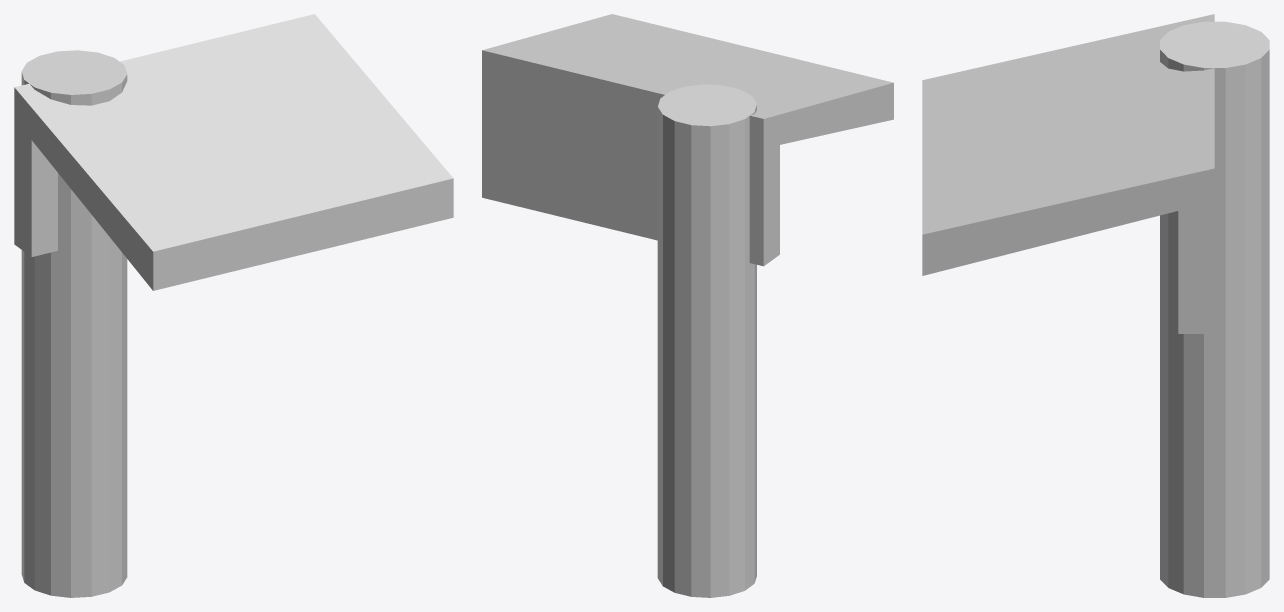
File: dc_metrobus_roof_4f.obj
The picture shows the model from 3 angles, left to right: view 1: azimuth 30°, elevation 25°; view 2: azimuth 150°, elevation 25°; view 3: azimuth 270°, elevation 25°; orthographic projection. The views are drawn at different scales.
Parts seen in each view (by area): view 1: part4f; view 2: part4f; view 3: part4f.
Boxes of the visible parts, <box> form: part4f: <box>14,14,453,597</box>; part4f: <box>482,14,893,597</box>; part4f: <box>922,14,1269,597</box>.
Size of the model in its own units: 0.625 by 1 by 0.5938.
Materials: 1 (1 with a texture image).
